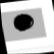correct: (8, 9, 38, 35)
